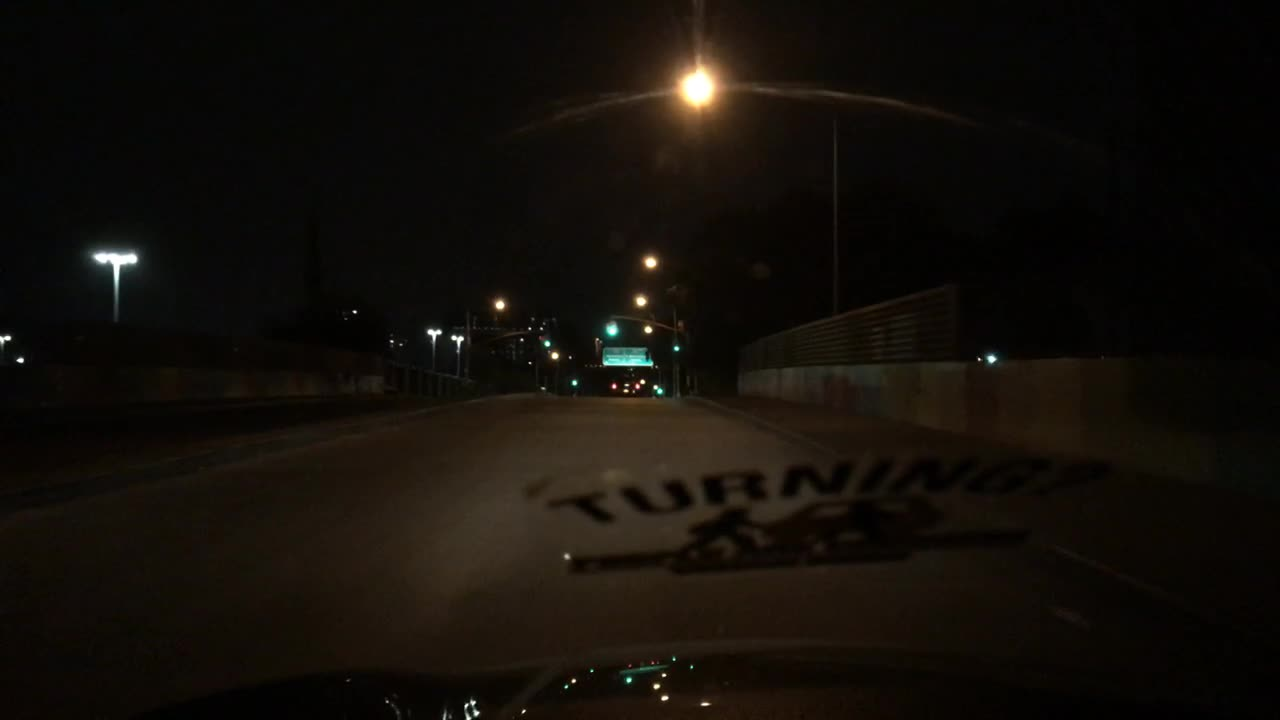car: (608, 375, 643, 397)
traffic light: (604, 318, 620, 336), (670, 338, 685, 355), (542, 329, 552, 348), (569, 375, 581, 388)
traffic sign: (601, 345, 652, 368)
